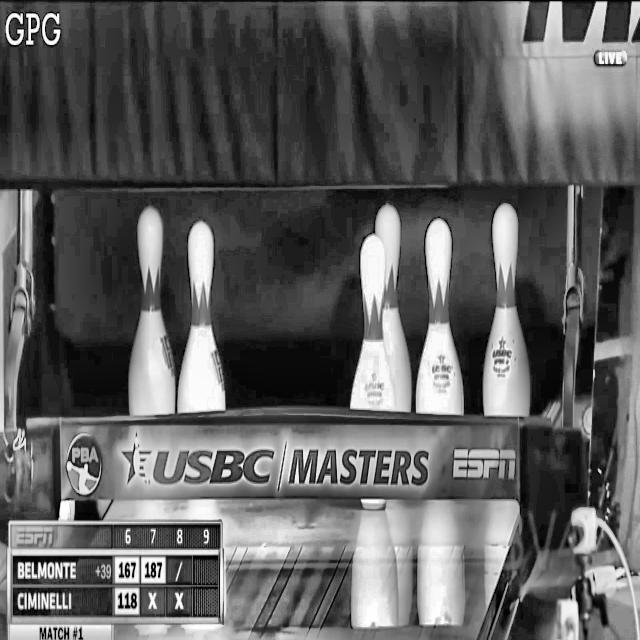bowling-pins: (484, 203, 531, 416), (128, 206, 175, 415), (416, 218, 464, 415), (177, 220, 225, 412), (350, 234, 396, 410), (376, 203, 412, 411)
sweep board: (59, 413, 520, 500)
